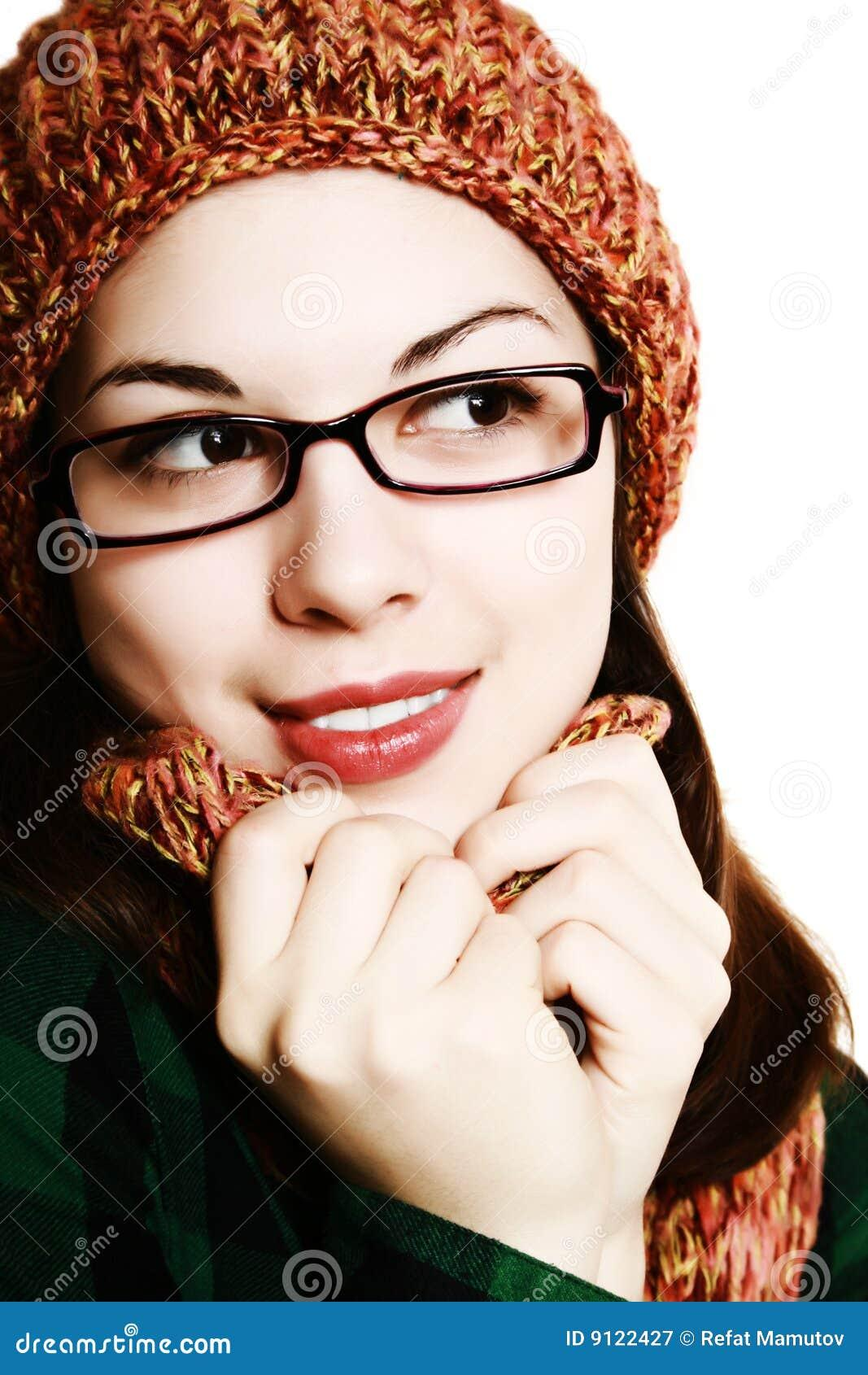cap: (0, 0, 868, 557)
sunglasses: (16, 334, 635, 549)
